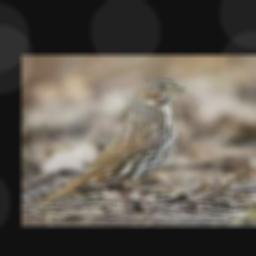Sparrow: (40, 78, 188, 205)
